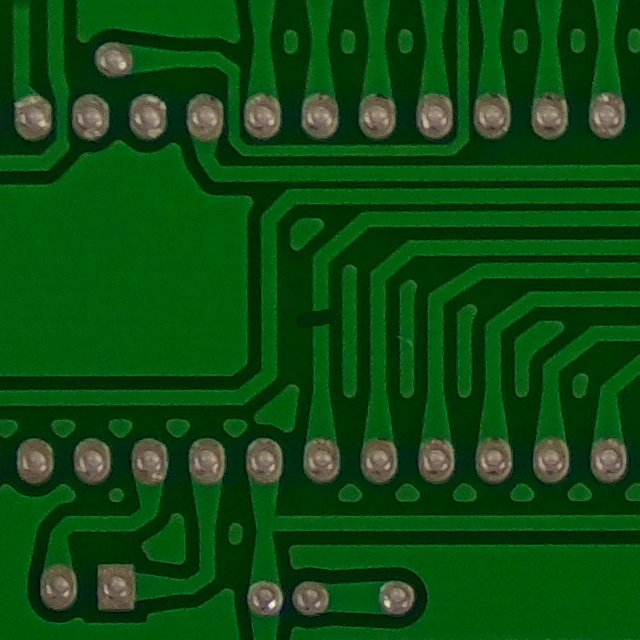open_circuit: (302, 300, 338, 341)
